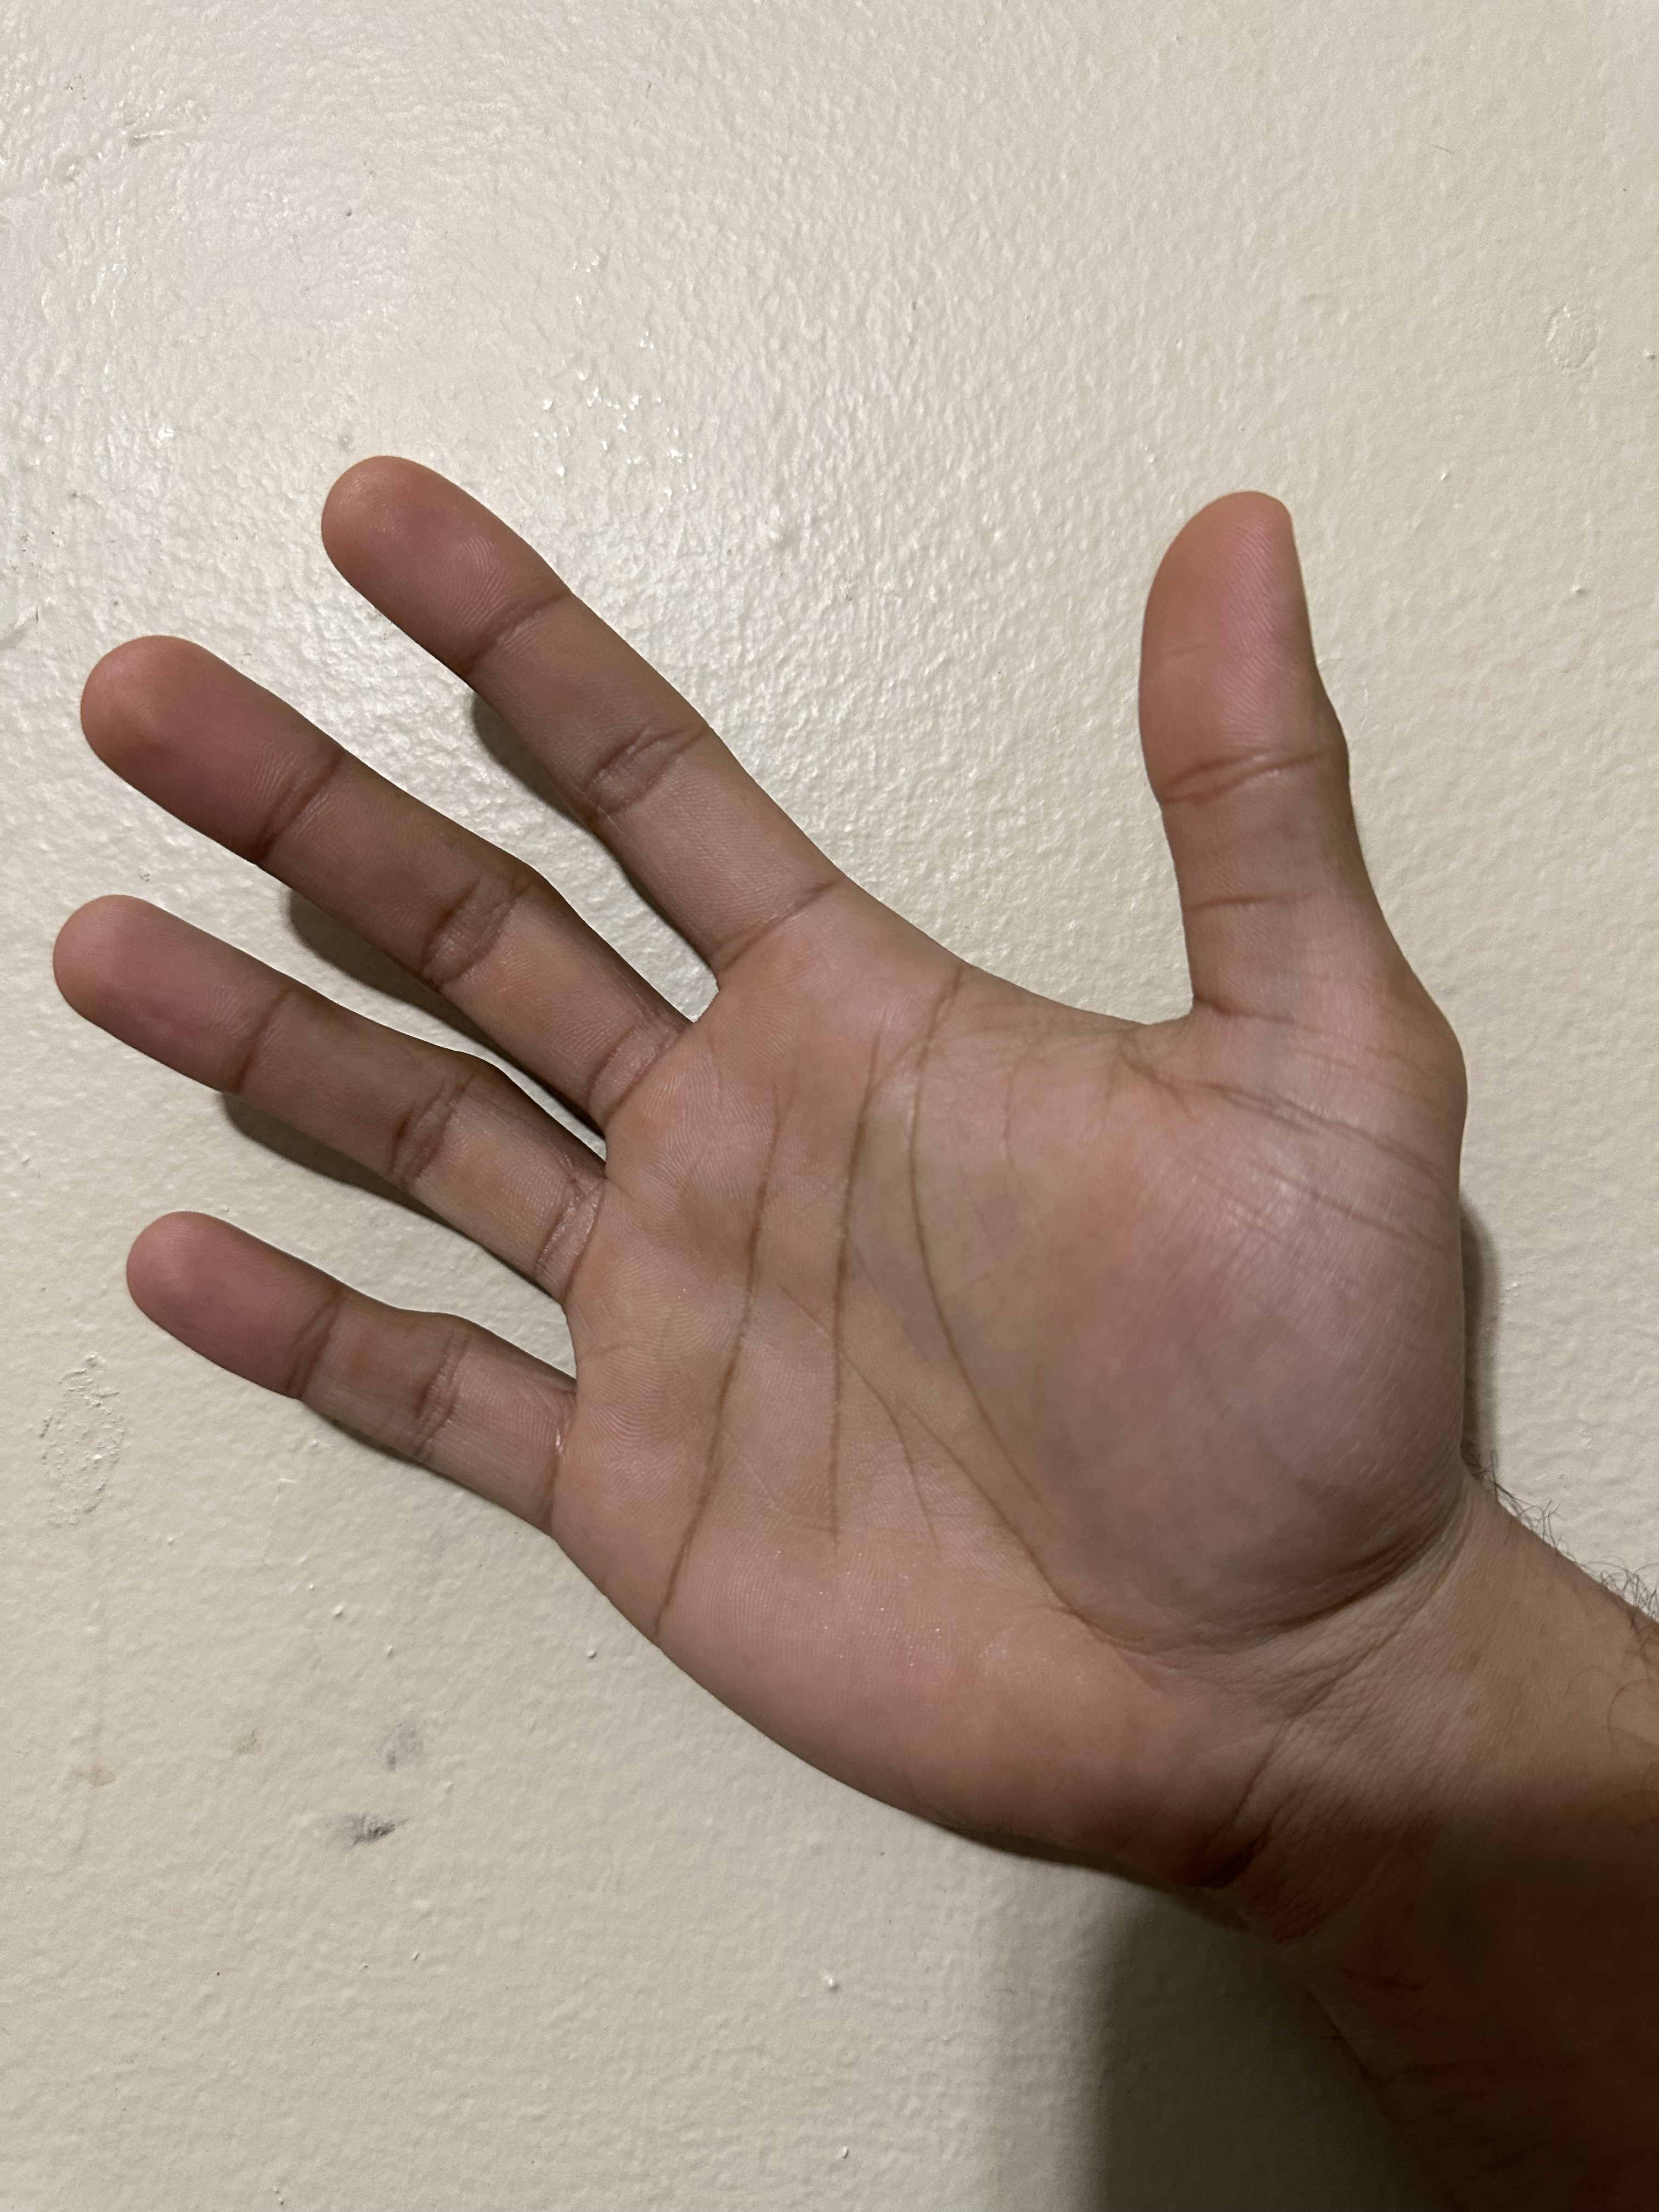finger: (1126, 441, 1344, 754), (40, 604, 308, 805), (303, 420, 535, 634), (30, 867, 265, 1061), (94, 1179, 328, 1367)
